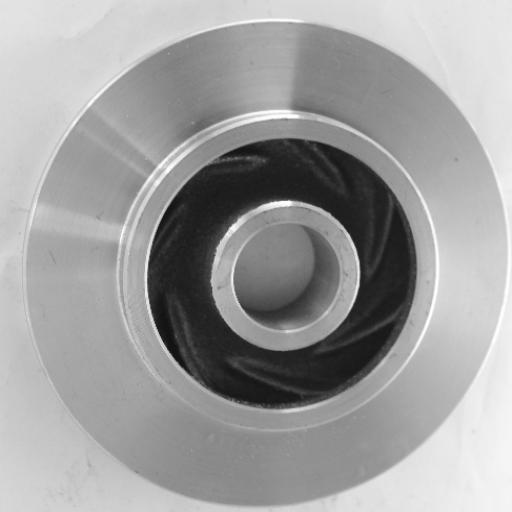polished_casting: (23, 19, 509, 512)
